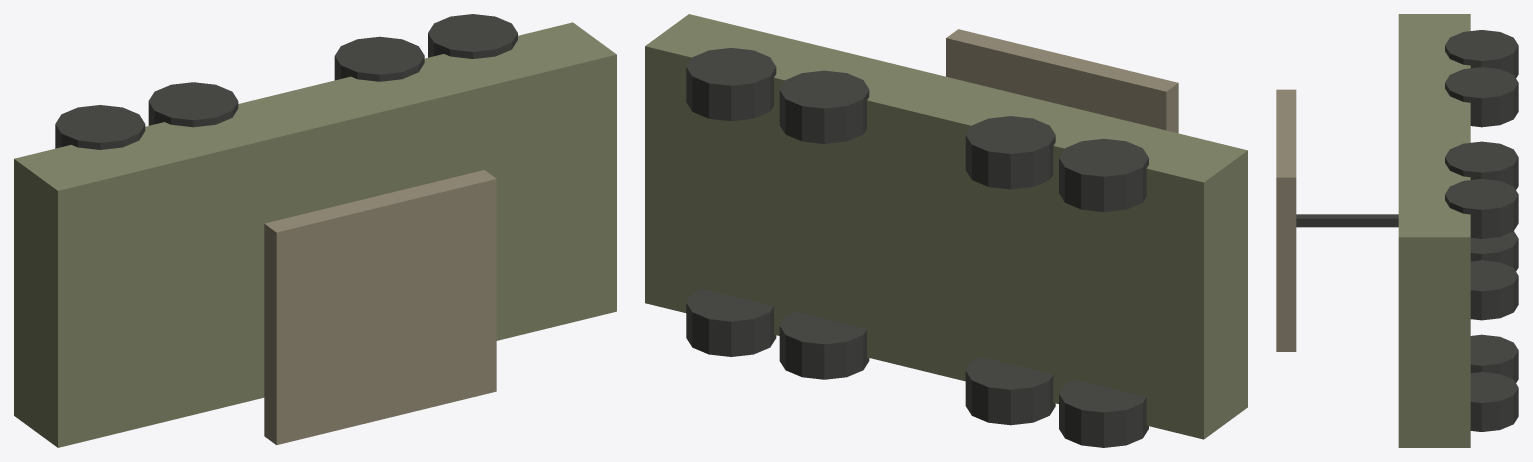
The model's file is radar_air.glb.
The picture shows the model from 3 angles, left to right: view 1: azimuth 30°, elevation 25°; view 2: azimuth 150°, elevation 25°; view 3: azimuth 270°, elevation 25°; orthographic projection. The views are drawn at different scales.
Parts seen in each view (by area): view 1: geometry_0; view 2: geometry_0; view 3: geometry_0.
Part boxes in pixels (x1,y1,x2,y2): geometry_0: (14,14,616,447); geometry_0: (645,14,1247,447); geometry_0: (1276,14,1518,447).
Size of the model in its own units: 6.6 by 3.06 by 3.03.
